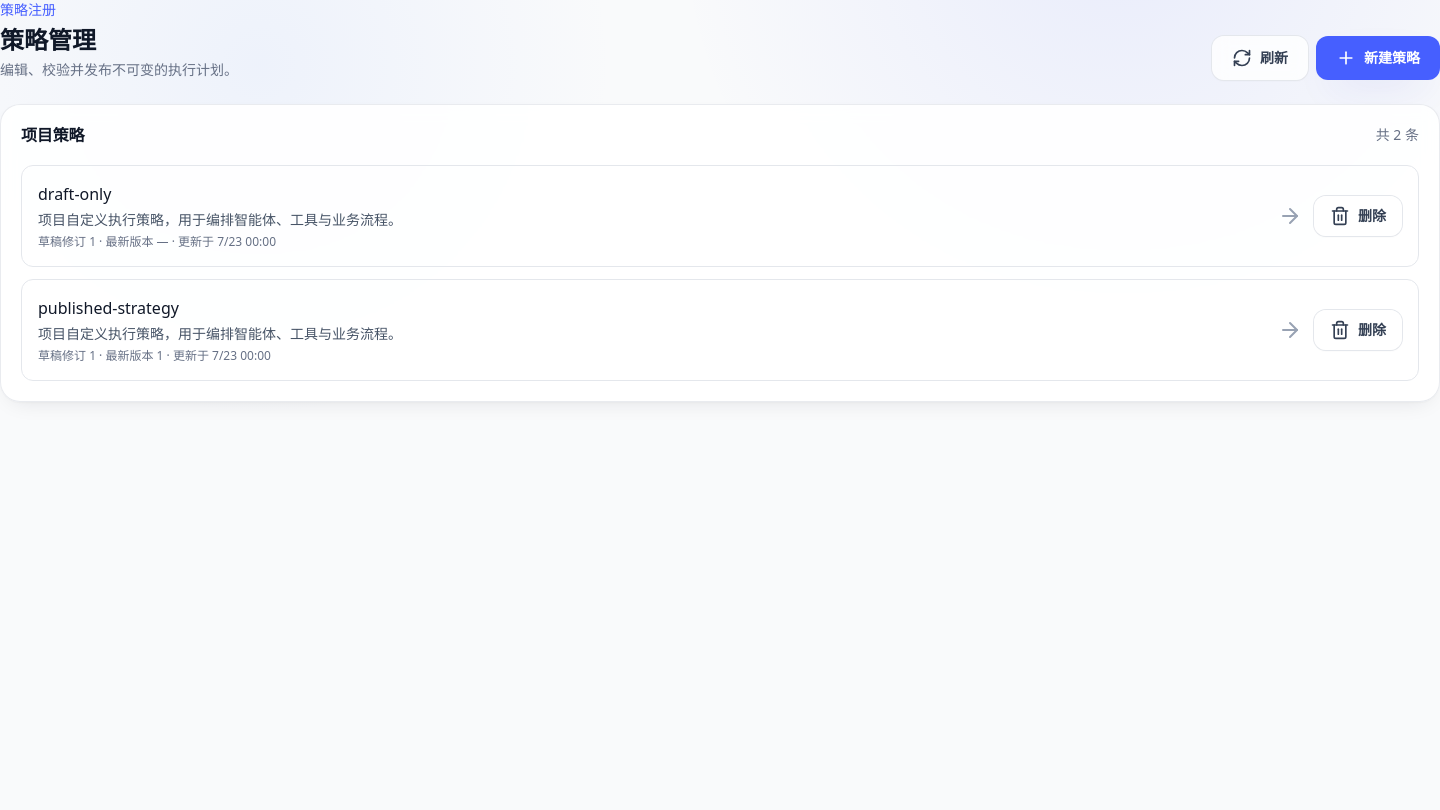
Scenario: strategy delete ui › shows blockers when published versions exist
Click the button with aria-label "删除 published-strategy" at {"x": 1358, "y": 330}, box [1314,310,1402,350]
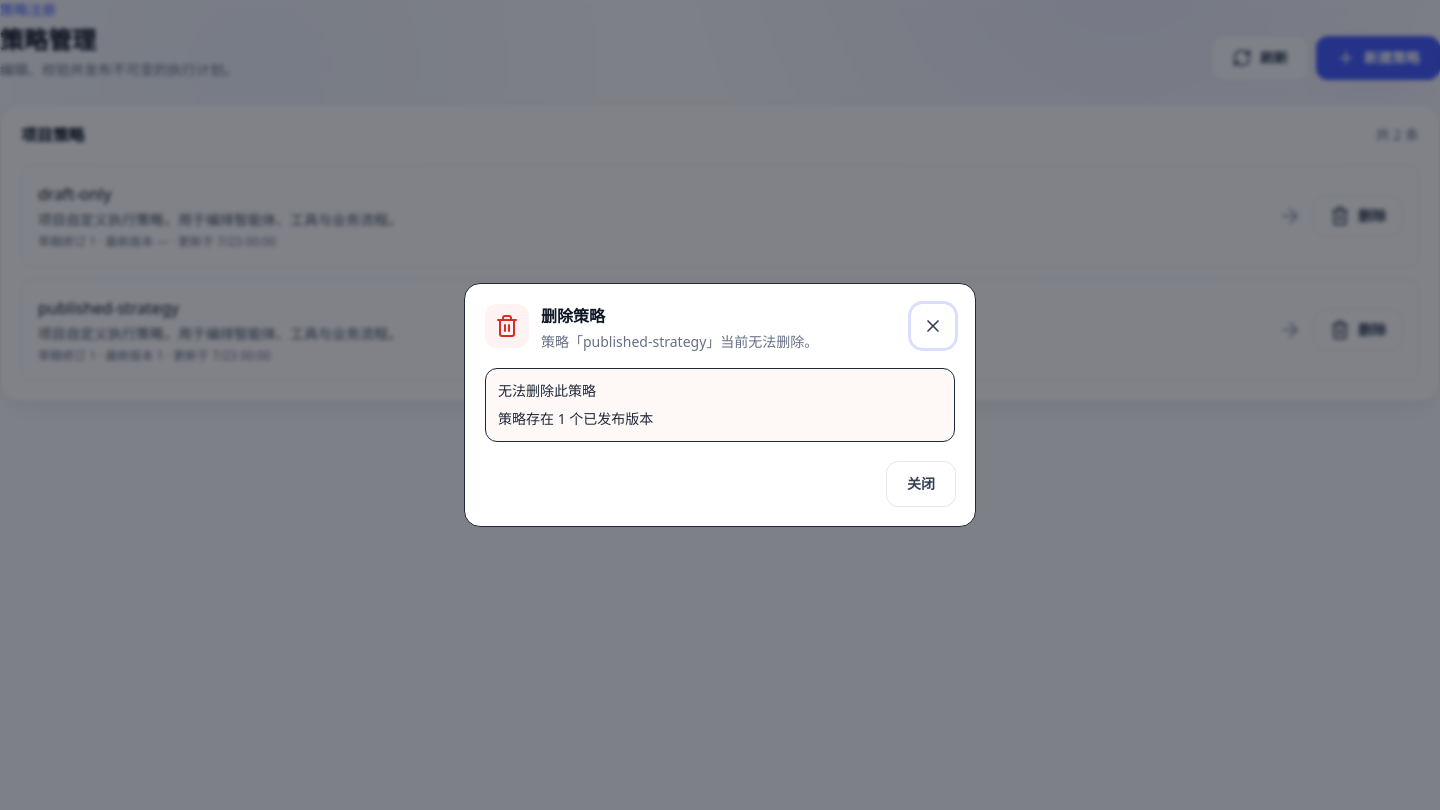
Result: the list item "策略存在 1 个已发布版本" is shown at [498,409,653,428]
